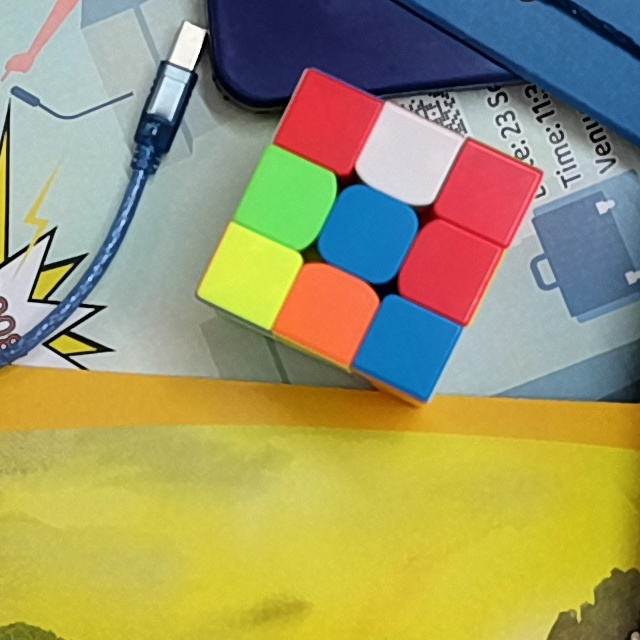tile: (335, 206, 397, 267), (378, 316, 438, 377), (297, 284, 357, 344), (377, 129, 436, 188), (259, 169, 318, 228), (459, 164, 518, 221), (418, 238, 477, 295), (298, 96, 359, 150), (222, 250, 279, 305)
